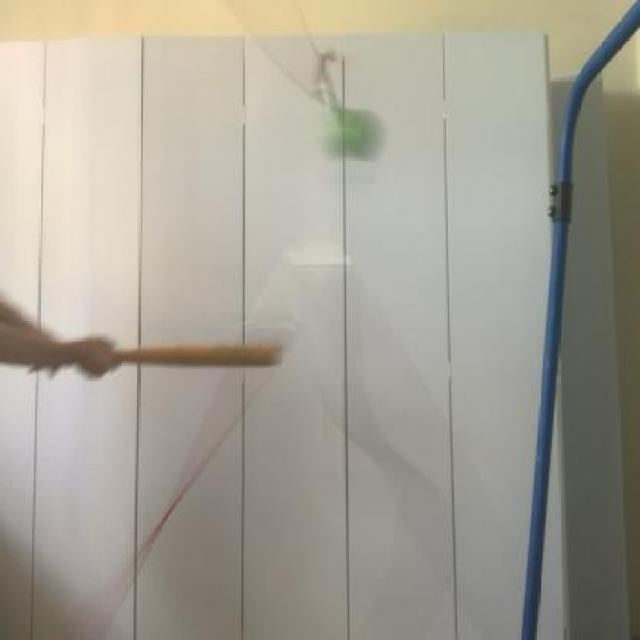baseball: (313, 95, 401, 174)
